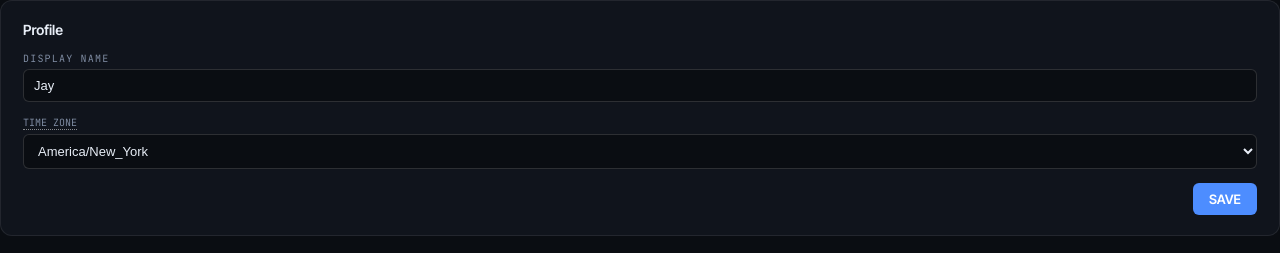
AccountProfileEditor › rollback-on-error restores prior value + shows error toast
Step 1. Replace the text in the field labelled "DISPLAY NAME" with "Jay M" → [640, 86], box [23,69,1257,102]
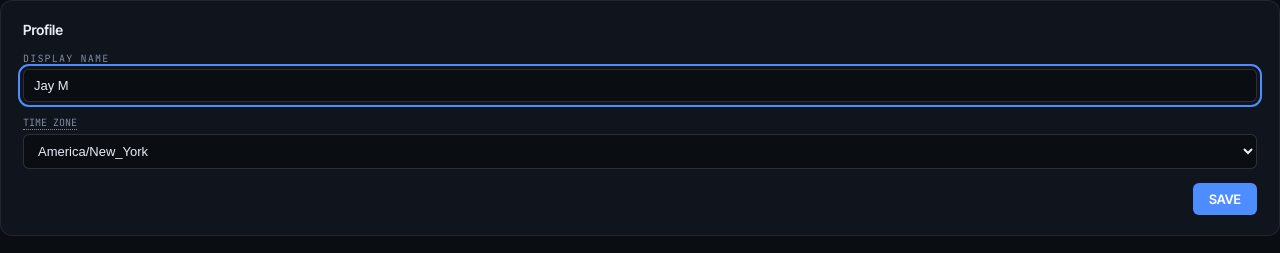
Step 2. Click the button "SAVE" → [1225, 199], box [1193,183,1257,215]
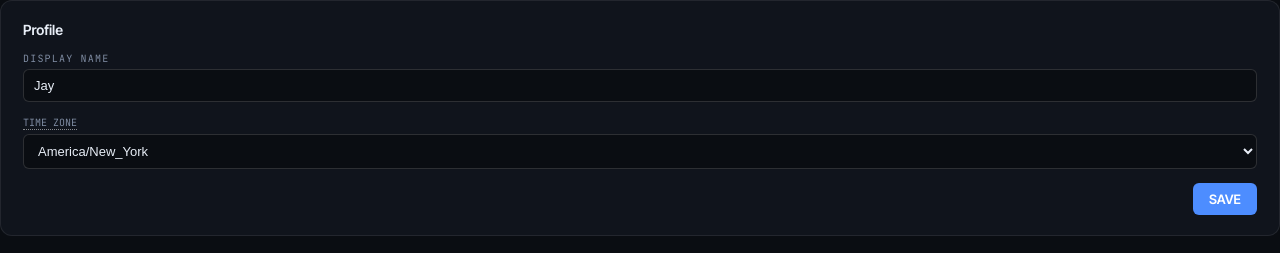
Check: the field labelled "DISPLAY NAME" holds "Jay", box [23,69,1257,102]
